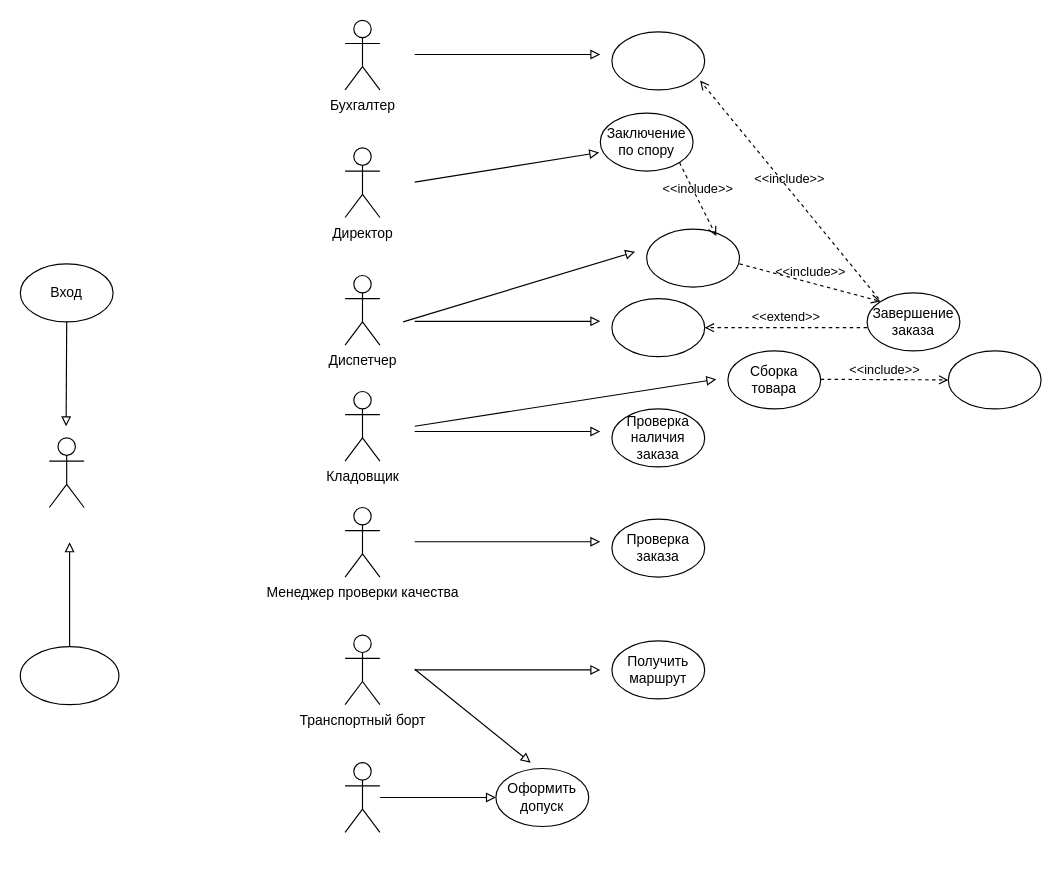
This 1061x877 diagram has some shape labels left out. Each missing label, with the box of its shape:
Медик: (344, 762, 380, 832)
Обработка споров: (646, 228, 740, 287)
Оформление заказа: (611, 298, 705, 357)
Оформление накладной на товар: (947, 350, 1041, 409)
Оформление продажи: (611, 31, 705, 90)
Пользователь: (48, 437, 84, 507)
Регистрация: (19, 646, 119, 705)
